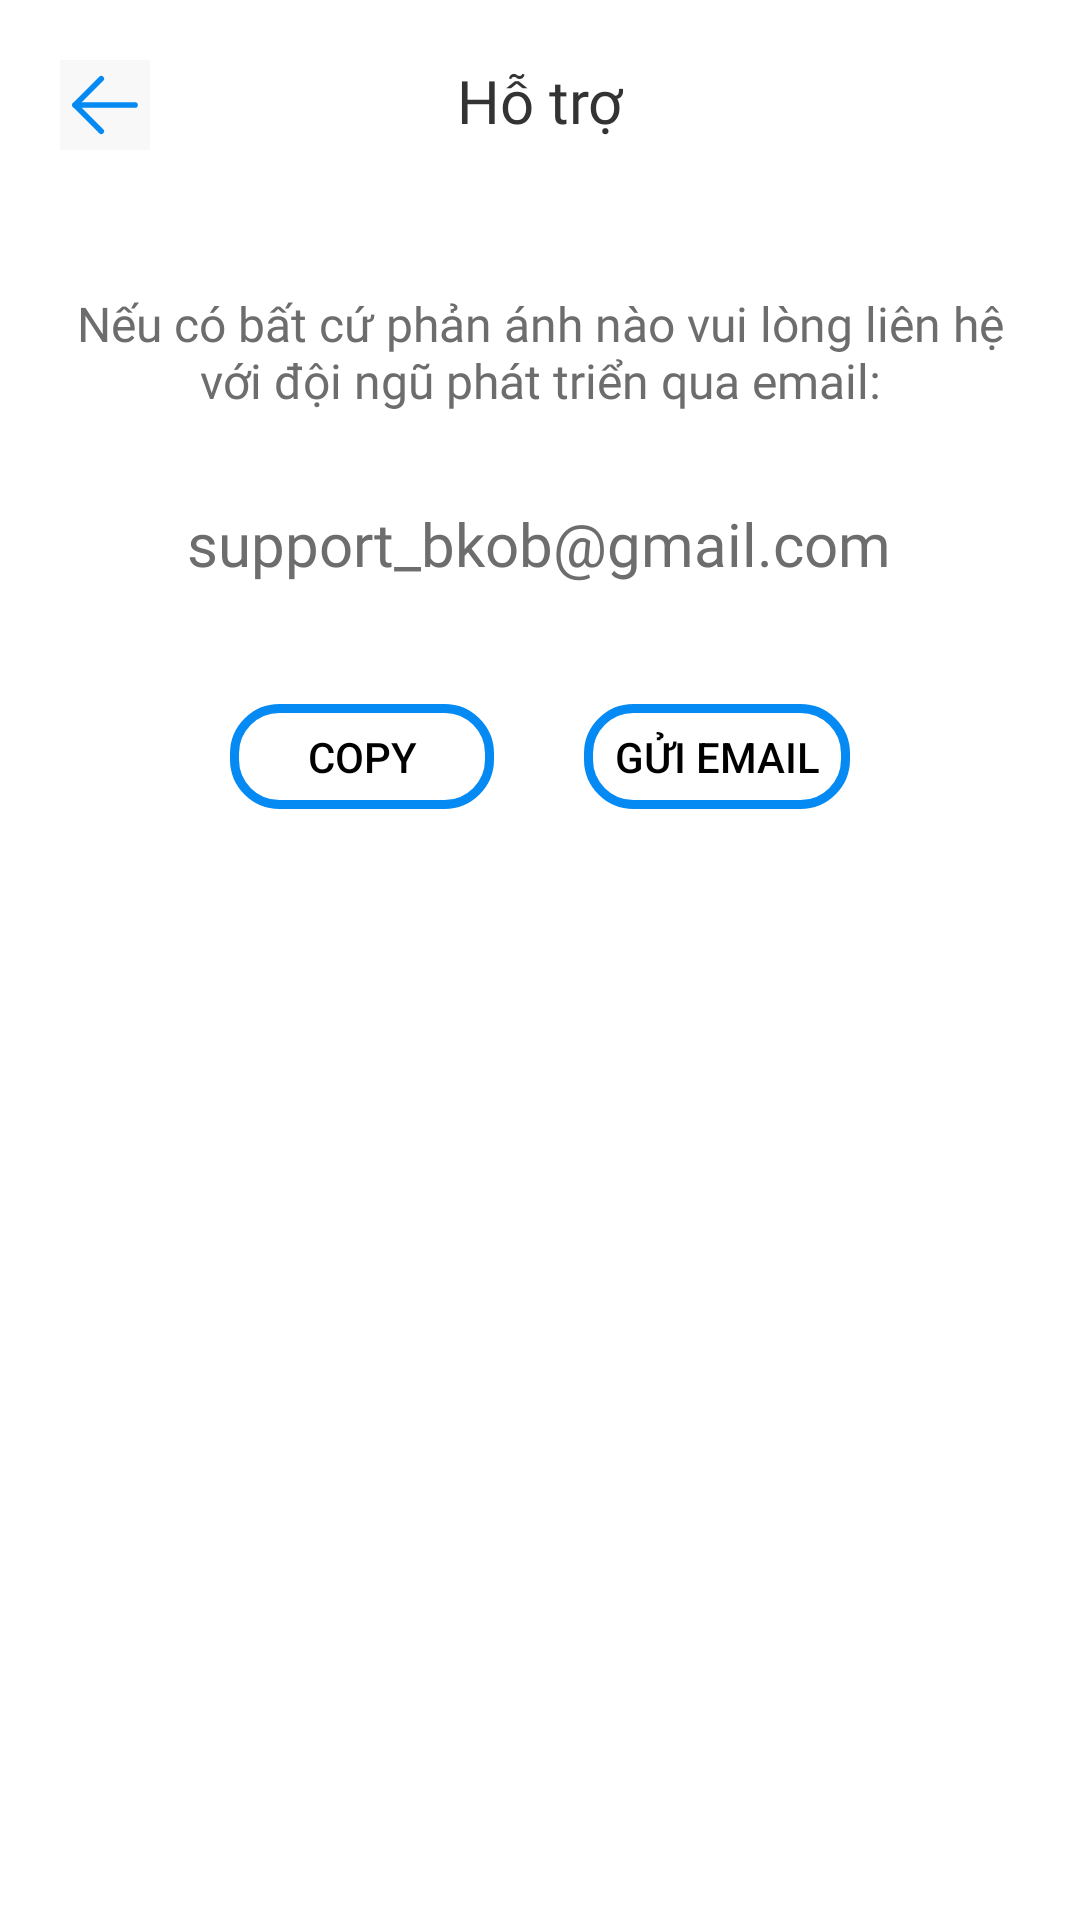

Icons on this 1080 x 1920 Android screen, each with its box as (x1, y1, x2, y2):
akar arrow left: (72, 75, 138, 135)
